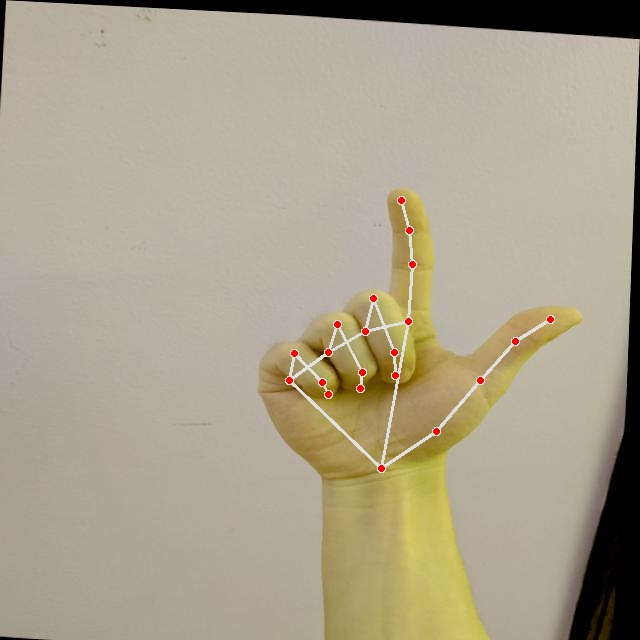L: (249, 170, 598, 496)
